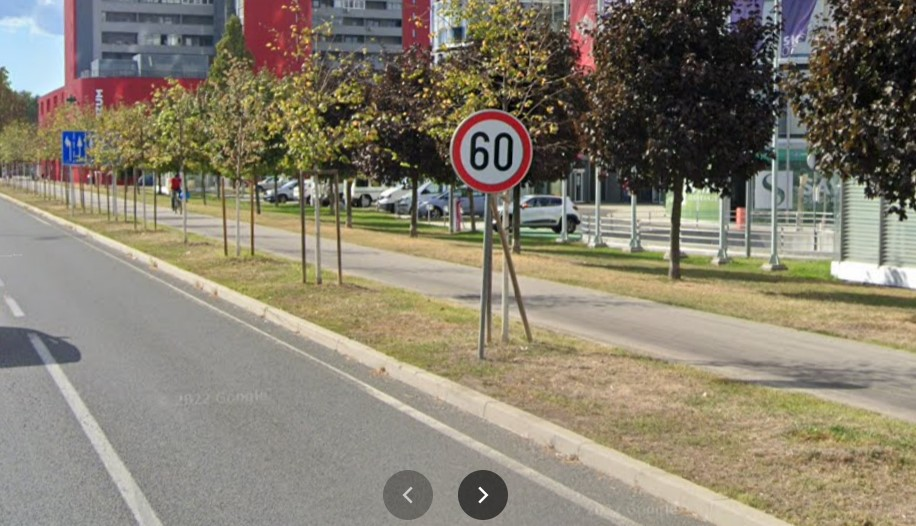Ograničenje brzine 60: (450, 109, 532, 193)
